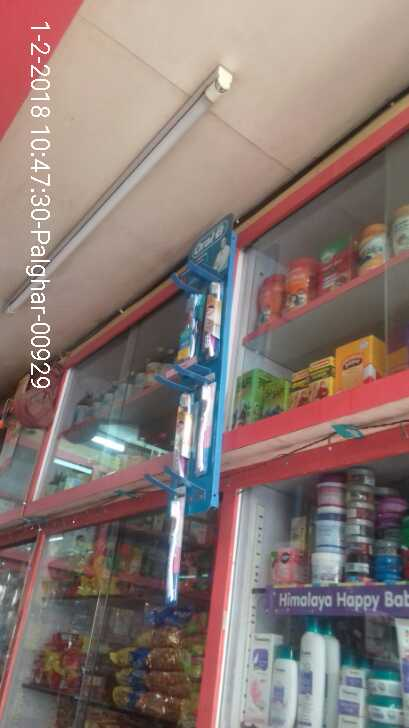oralb: (156, 485, 189, 609), (200, 269, 235, 366), (188, 380, 214, 480), (170, 286, 200, 369), (177, 380, 191, 473)
